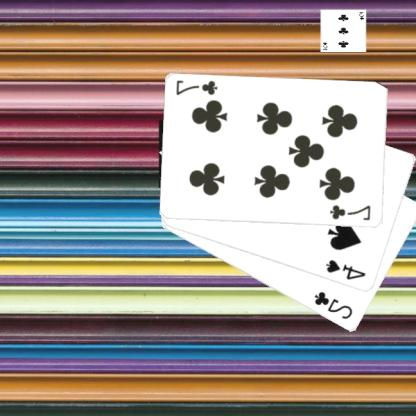2C: (314, 288, 356, 321)
4S: (325, 257, 369, 282)
7C: (175, 77, 221, 97), (330, 202, 374, 222)
